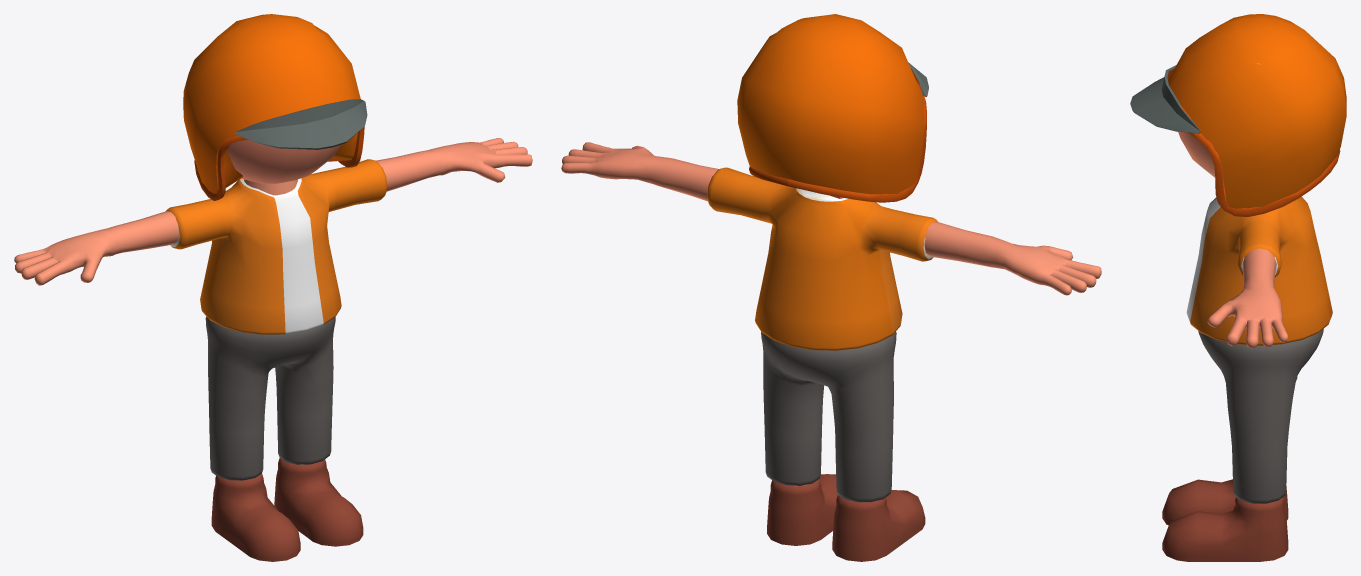
The model's file is SM_Courier2.fbx.
The picture shows the model from 3 angles, left to right: view 1: azimuth 30°, elevation 25°; view 2: azimuth 150°, elevation 25°; view 3: azimuth 270°, elevation 25°; orthographic projection. The views are drawn at different scales.
Parts seen in each view (by area): view 1: Player.005; view 2: Player.005; view 3: Player.005.
Boxes of the visible parts, bbox=[...] form: Player.005: bbox=[14, 14, 532, 561]; Player.005: bbox=[561, 14, 1101, 561]; Player.005: bbox=[1130, 14, 1346, 561].
Size of the model in its own units: 391 by 367 by 141.
